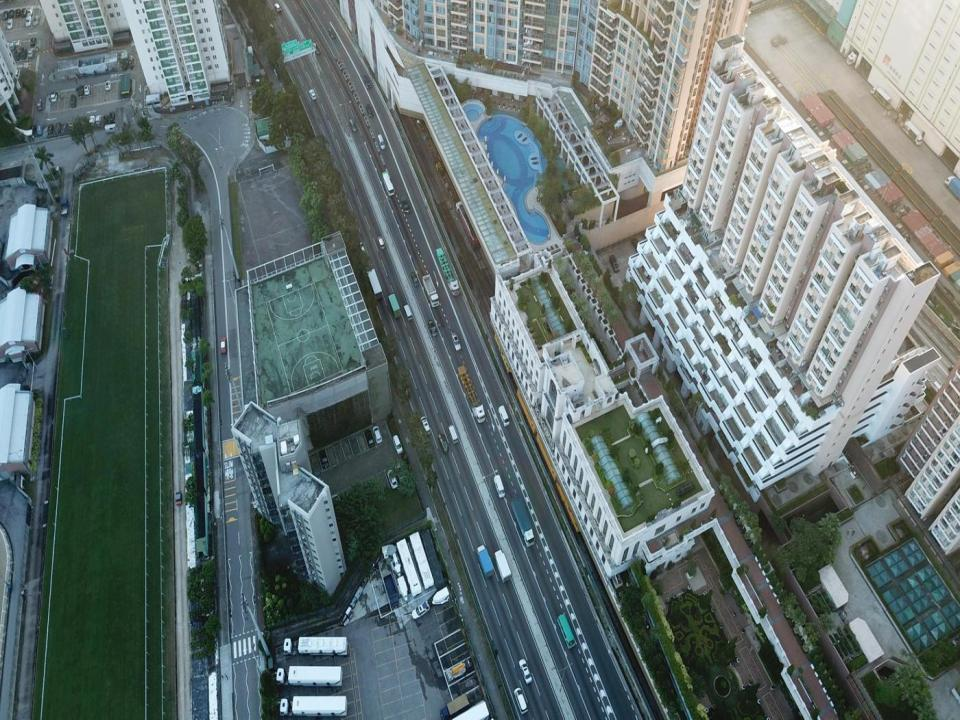bus: (456, 201, 480, 249), (558, 614, 575, 649), (382, 172, 395, 196)
car: (411, 601, 430, 620), (519, 659, 532, 684), (438, 434, 449, 454), (386, 470, 398, 488), (395, 464, 406, 483), (365, 428, 375, 447), (451, 332, 461, 351), (420, 416, 430, 435), (372, 426, 382, 444), (631, 237, 642, 253), (319, 448, 328, 467), (401, 196, 410, 214), (176, 134, 188, 147), (358, 241, 366, 259), (428, 320, 437, 336), (411, 272, 419, 288), (311, 42, 321, 54), (377, 236, 386, 249), (366, 103, 374, 117), (50, 90, 59, 102), (175, 490, 182, 505), (13, 49, 21, 62), (67, 121, 75, 134), (220, 337, 226, 354), (36, 124, 44, 136), (60, 122, 68, 134), (88, 115, 96, 127), (308, 88, 316, 100), (54, 122, 61, 134), (24, 16, 32, 26), (20, 8, 28, 18), (14, 38, 22, 48), (102, 114, 109, 125), (328, 27, 335, 38), (32, 14, 38, 26), (21, 48, 27, 60), (8, 40, 15, 50), (47, 124, 54, 134), (78, 84, 84, 95), (84, 84, 90, 95), (30, 36, 36, 46), (28, 48, 34, 58), (27, 6, 33, 16), (30, 124, 36, 134), (274, 3, 280, 13), (7, 18, 12, 28), (105, 80, 110, 90), (2, 11, 8, 19), (8, 9, 14, 17), (15, 8, 21, 16), (37, 102, 43, 110)
truck: (57, 51, 134, 80), (456, 366, 484, 423), (283, 636, 349, 657), (280, 696, 348, 716), (276, 667, 342, 687), (511, 496, 535, 547), (436, 248, 460, 296), (450, 700, 488, 719), (440, 694, 470, 718), (445, 658, 472, 681), (477, 545, 494, 579), (494, 549, 511, 583), (422, 274, 439, 307), (383, 574, 399, 608), (366, 268, 382, 301), (60, 197, 69, 216)
van: (901, 120, 922, 146), (870, 86, 892, 109), (514, 687, 528, 715), (944, 176, 960, 200), (388, 293, 401, 319), (846, 48, 862, 66), (494, 474, 505, 498), (448, 424, 459, 445), (498, 406, 509, 425), (104, 122, 121, 134), (393, 435, 403, 454), (609, 255, 620, 272), (404, 304, 413, 321), (378, 133, 386, 150), (363, 75, 371, 89), (350, 118, 357, 132), (109, 112, 115, 125), (71, 94, 76, 107), (96, 114, 101, 124)
